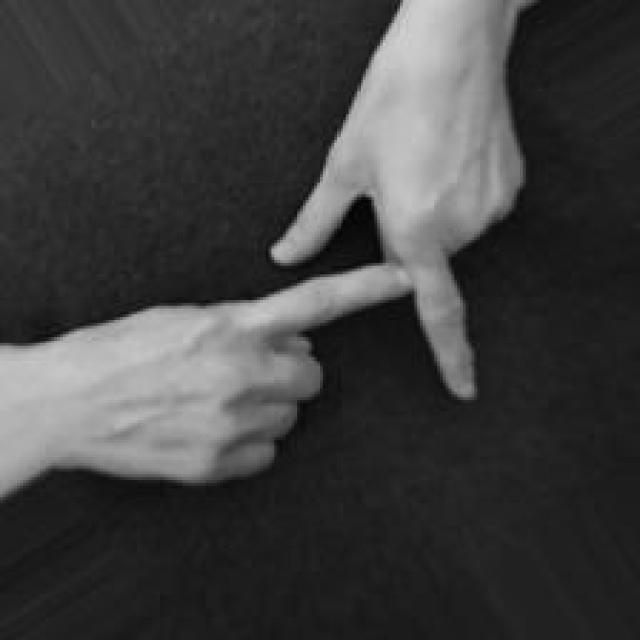F: (77, 1, 526, 486)
